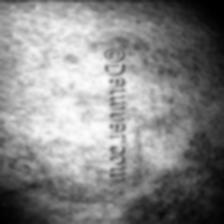Unclassified: (126, 35, 224, 224), (27, 14, 102, 224)
